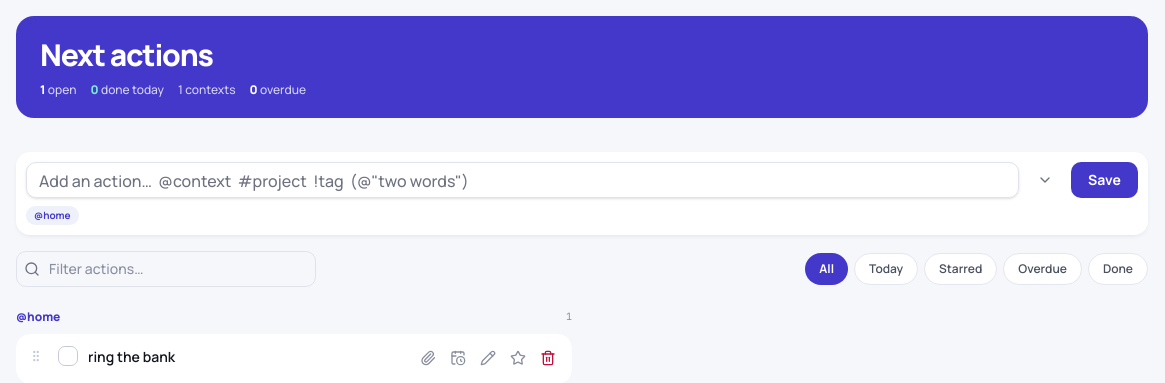
Test case: contexts with nothing in them › keeps the no-match wording when filtering
Expected: the button "ring the bank" is shown, [88,347,175,366]
Type "zzz" into the field labelled "Filter actions". click: [166, 269]
box: [16,251,316,287]
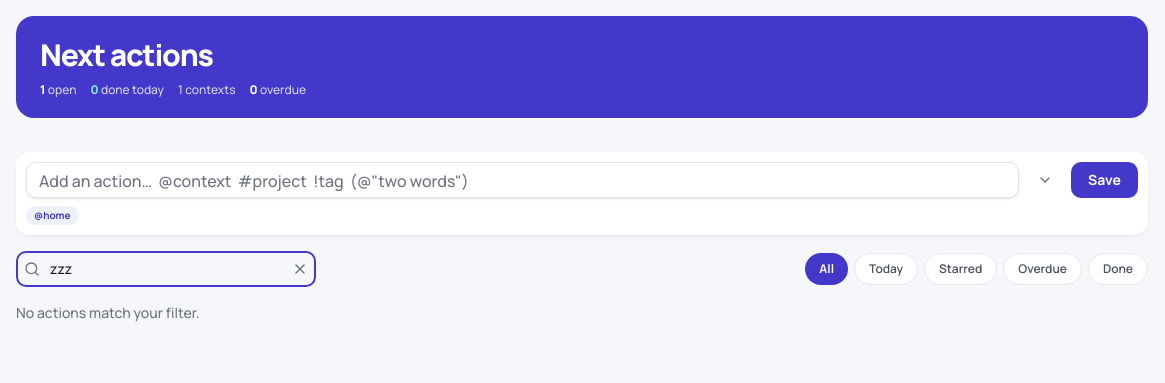
Expected: the text "No actions match your filter." is shown, [16,303,200,322]
